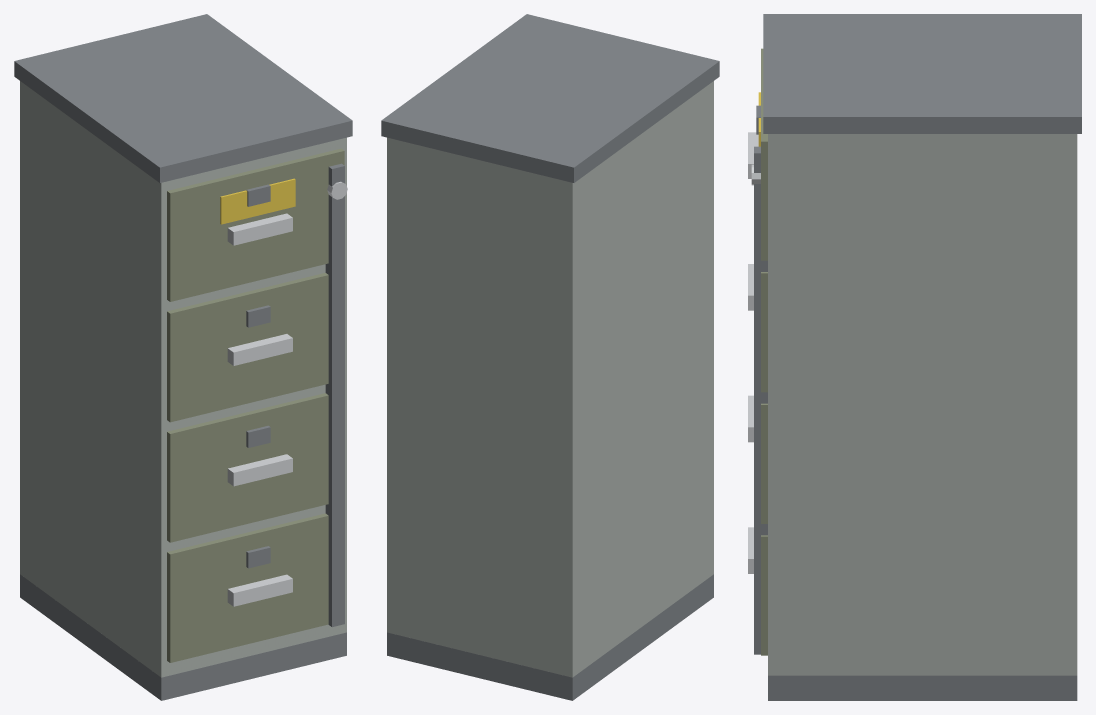
File: cold-war-missile-silo-and-command-bunker-filing-cabine-61f2d009__15687.glb
3 renders of one model, left to right at view 1: azimuth 30°, elevation 25°; view 2: azimuth 150°, elevation 25°; view 3: azimuth 270°, elevation 25°, orthographic. The views are drawn at different scales.
Parts seen in each view (by area): view 1: filing-cabinet; view 2: filing-cabinet; view 3: filing-cabinet.
Boxes of the visible parts, box(x1,y1,x2,y2) form: filing-cabinet: box(14, 14, 352, 700); filing-cabinet: box(381, 14, 719, 700); filing-cabinet: box(748, 14, 1081, 700).
Size of the model in its own units: 0.5199 by 1.38 by 0.7125.
